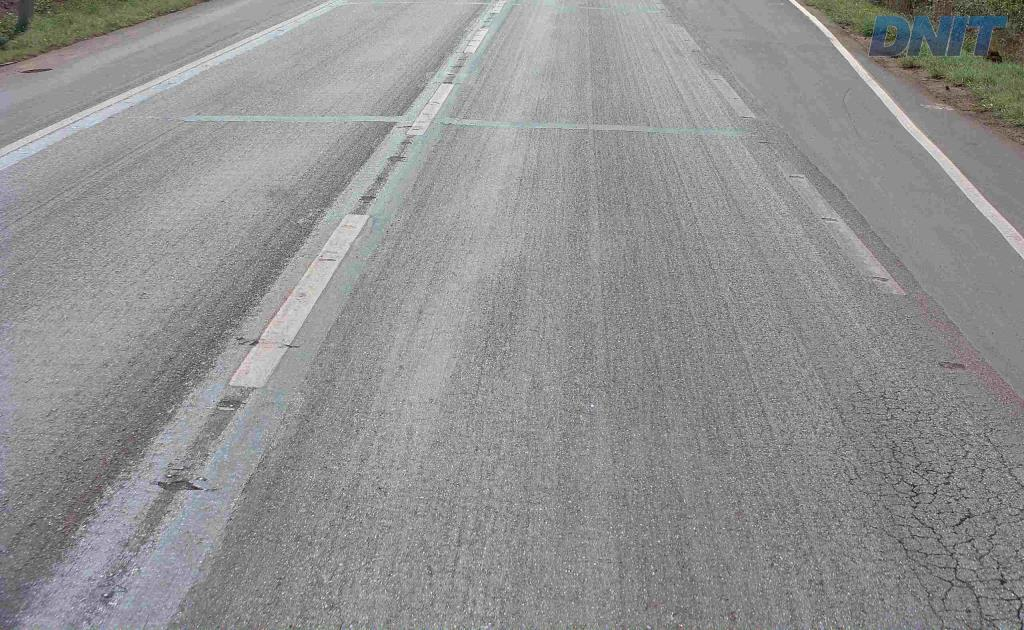crack: (890, 466, 936, 534), (933, 559, 982, 618)
